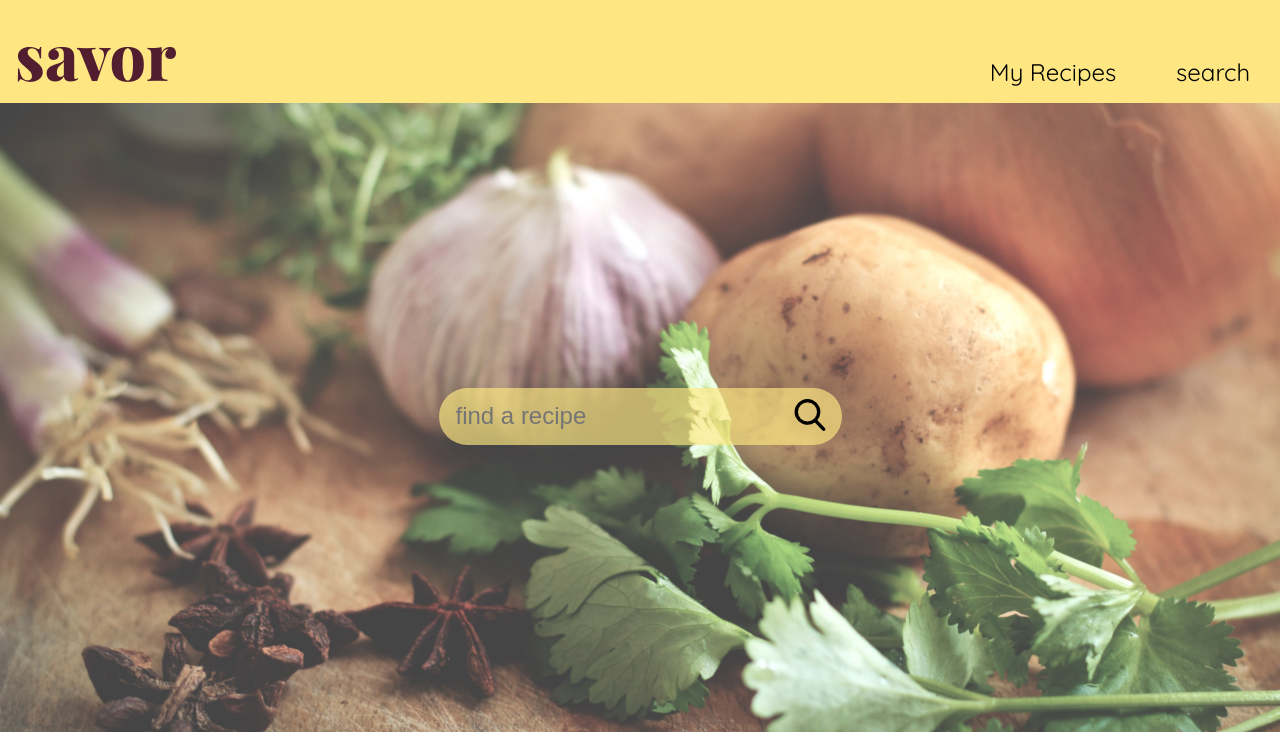
Error handling for search input › As a user, I should see an error message if I do not type a query before searching
Click the button with class "submit-btn".
click(810, 417)  # box [788,398,832,435]
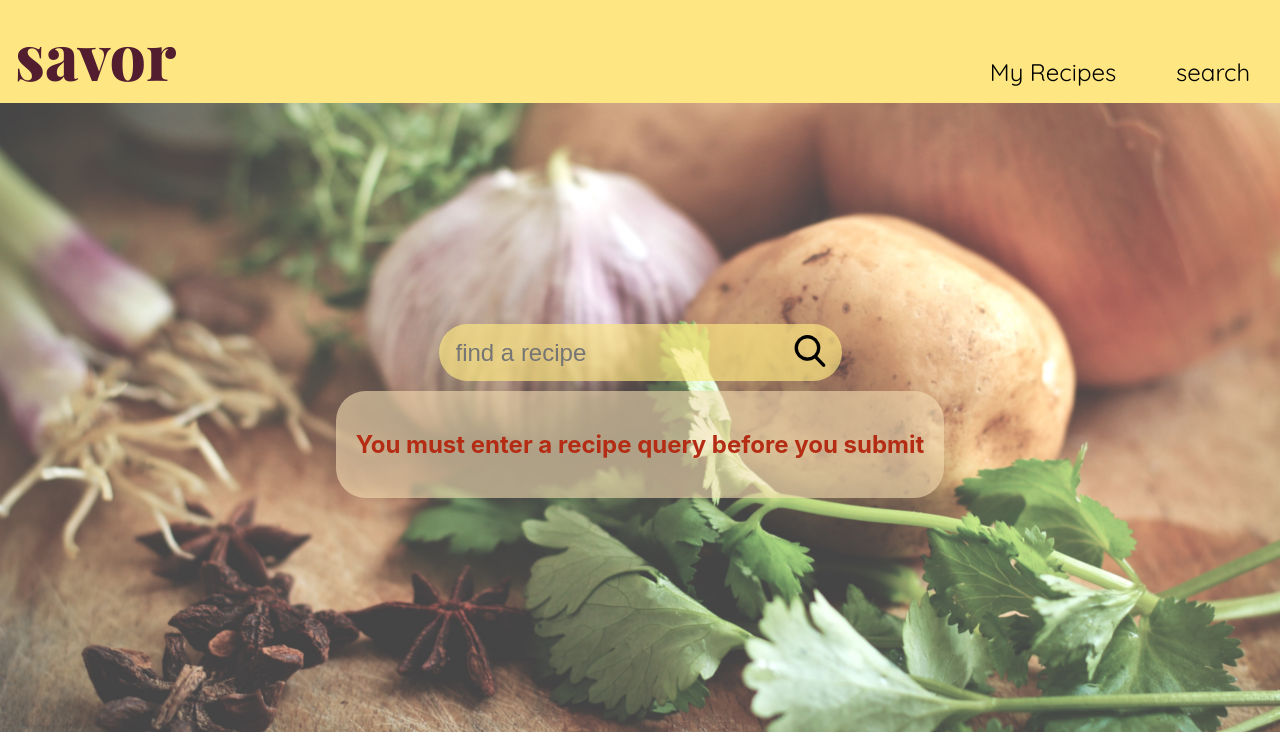
Now the heading "You must enter a recipe query before you submit" is shown, box [356,430,924,459]
